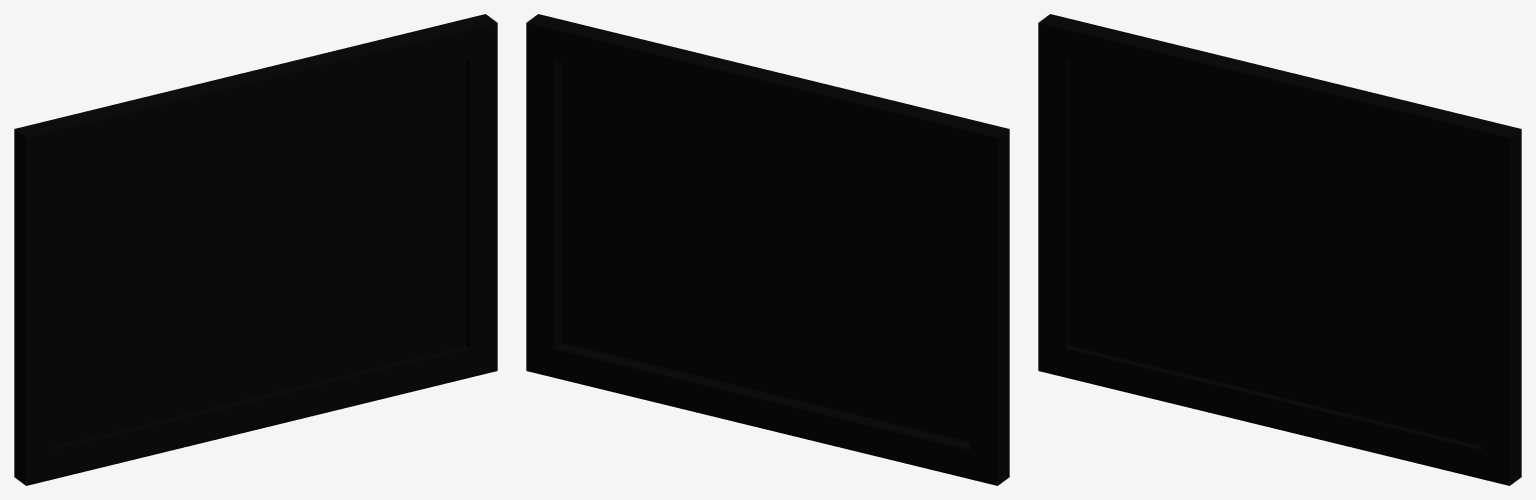
The model's file is SM_painting_stag.fbx.
3 renders of one model, left to right at view 1: azimuth 30°, elevation 25°; view 2: azimuth 150°, elevation 25°; view 3: azimuth 330°, elevation 25°, orthographic.
Visible parts, largest first — view 1: painting_stag; view 2: painting_stag; view 3: painting_stag.
Boxes of the visible parts, x1,y1,x2,y2 form: painting_stag: [14, 14, 497, 485]; painting_stag: [526, 14, 1009, 485]; painting_stag: [1038, 14, 1521, 485].
Bounding box in the file's own units: 1.36 × 0.96 × 0.06.
